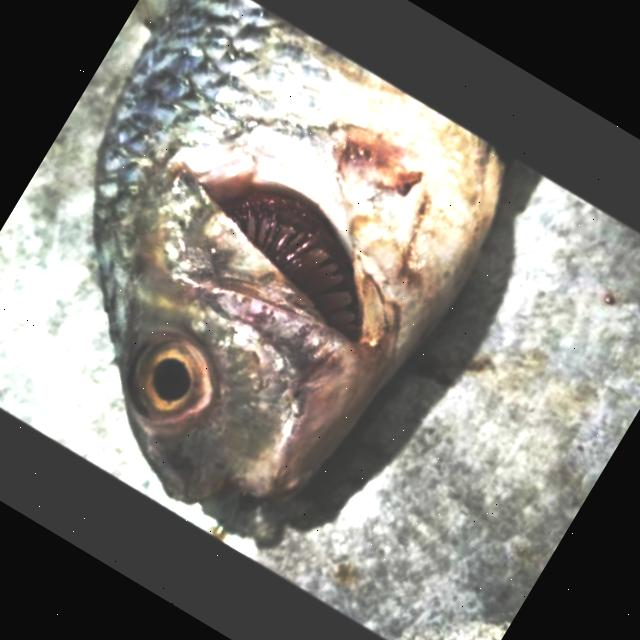Flavobacterium -Bacterial Gill Disease-: (95, 0, 504, 541), (90, 0, 511, 503)
